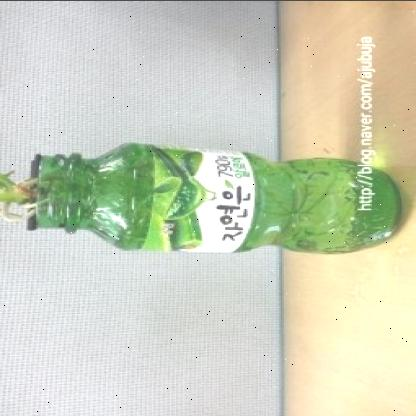Plastic Bottle: (26, 140, 402, 254)
